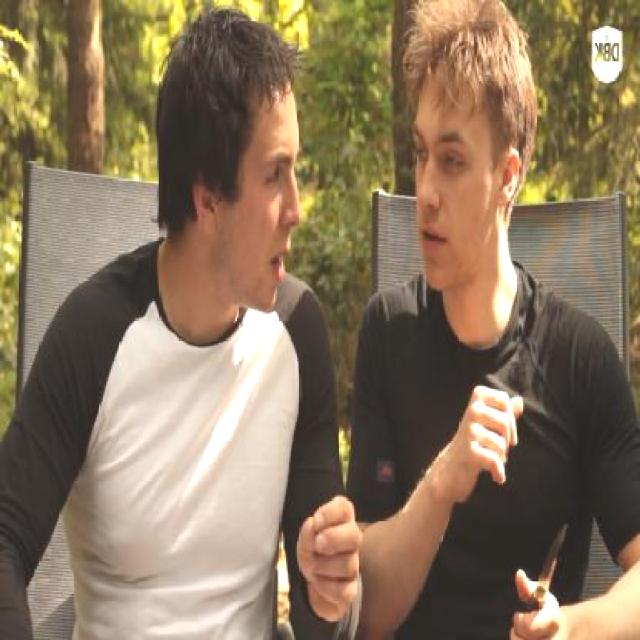knife: (511, 498, 582, 638)
